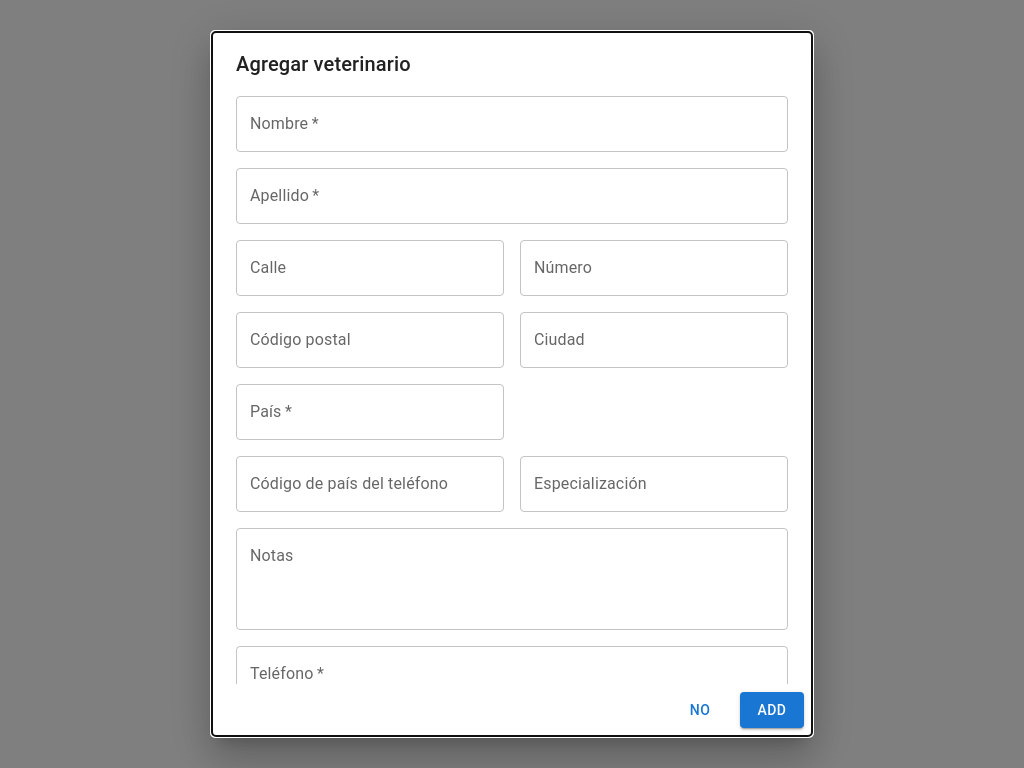
Test: AddVetDialog › shows a duplicate contact error returned by the API
Type "Ada" into the field labelled "Nombre *" at (512, 124), box [236,96,788,152]
Type "Lovelace" into the field labelled "Apellido *" at (512, 196), box [236,168,788,224]
Type "Germany" into the field labelled "País *" at (370, 412), box [236,384,504,440]
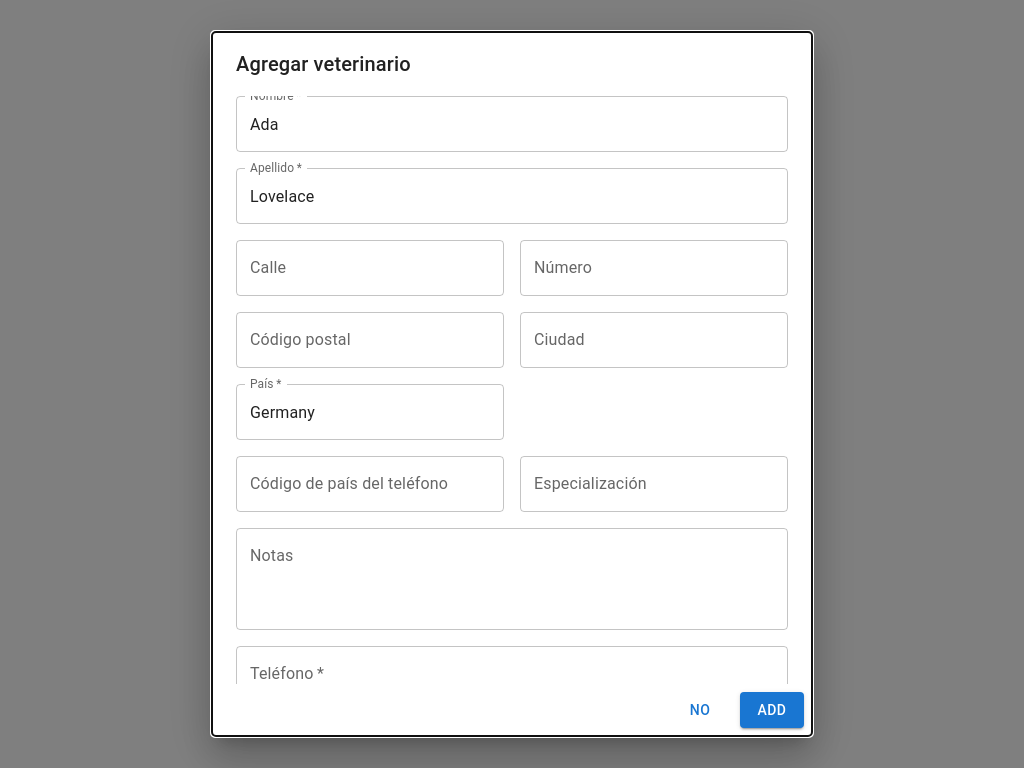
Type "Frankfurt" into the field labelled "Ciudad" at (654, 340), box [520,312,788,368]
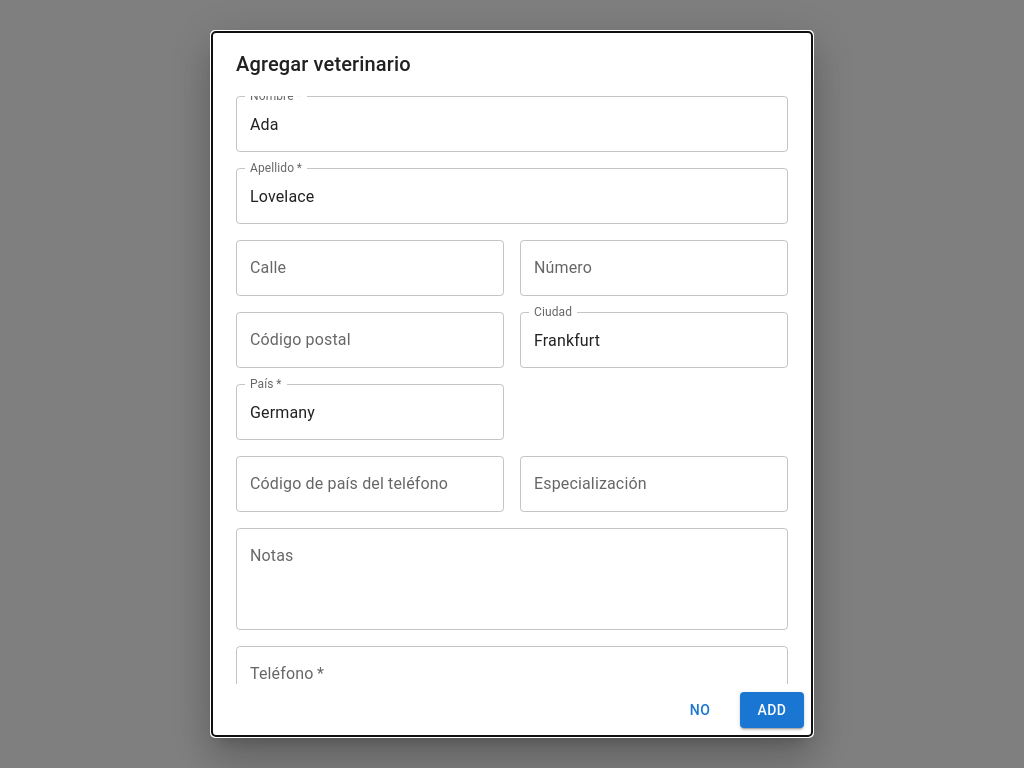
Type "Main Street" into the field labelled "Calle" at (370, 268), box [236,240,504,296]
(page scrolled)
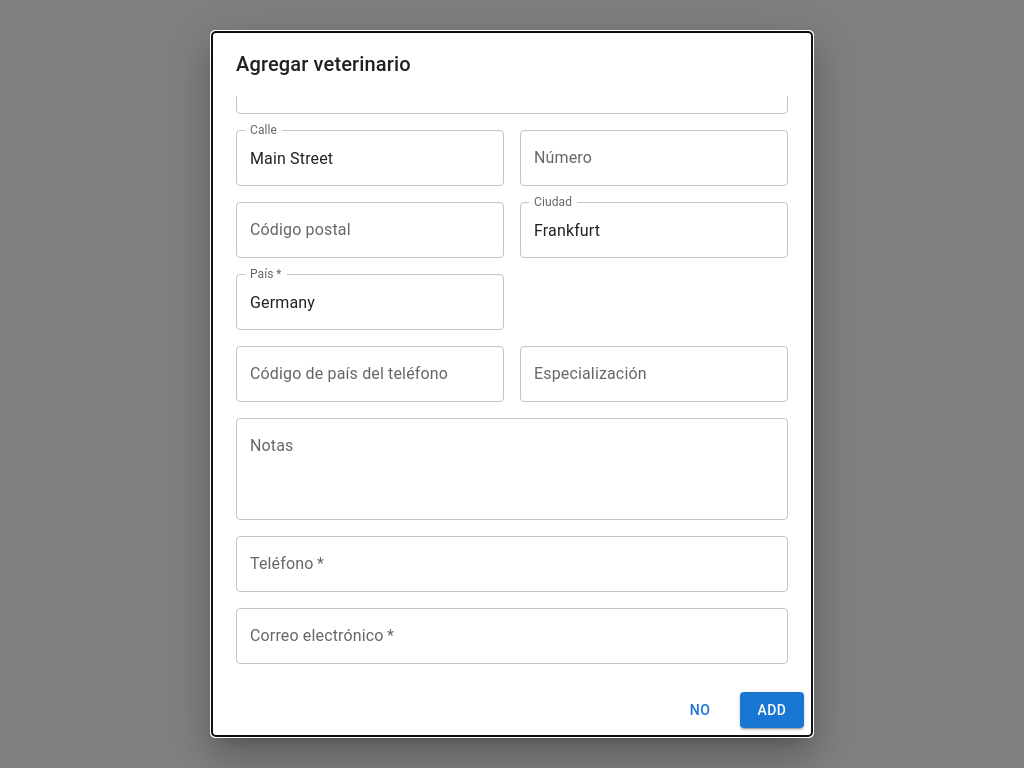
Type "ada@example.com" into the field labelled "Correo electrónico *" at (512, 636), box [236,608,788,664]
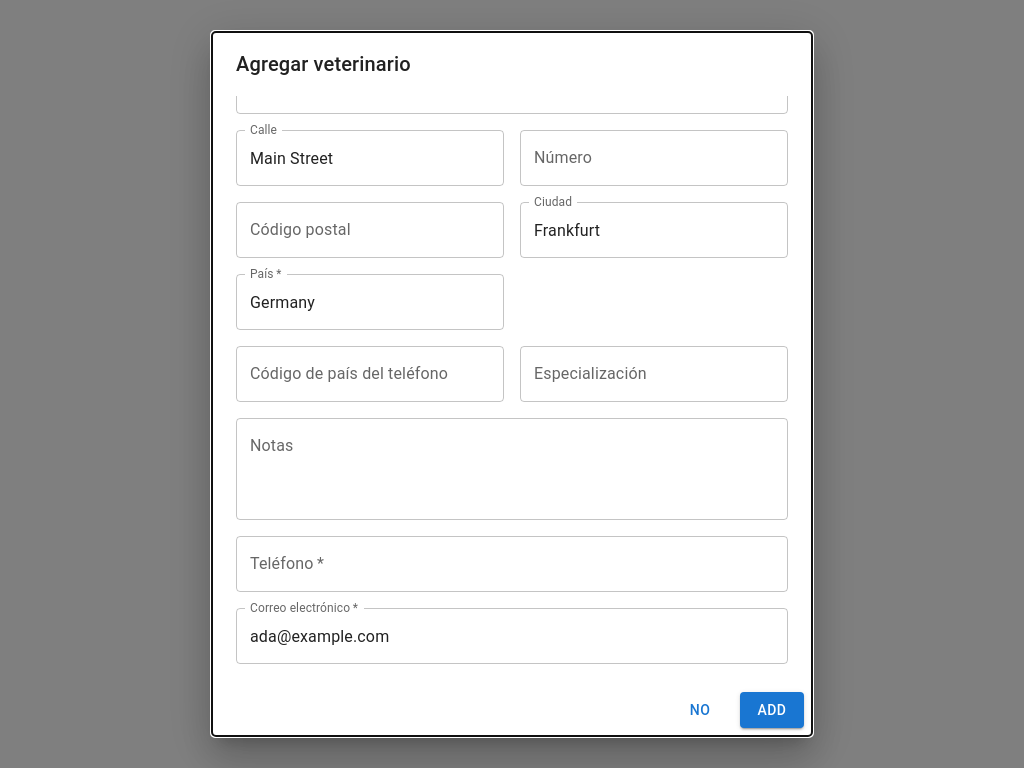
Type "12345" into the field labelled "Teléfono *" at (512, 564), box [236,536,788,592]
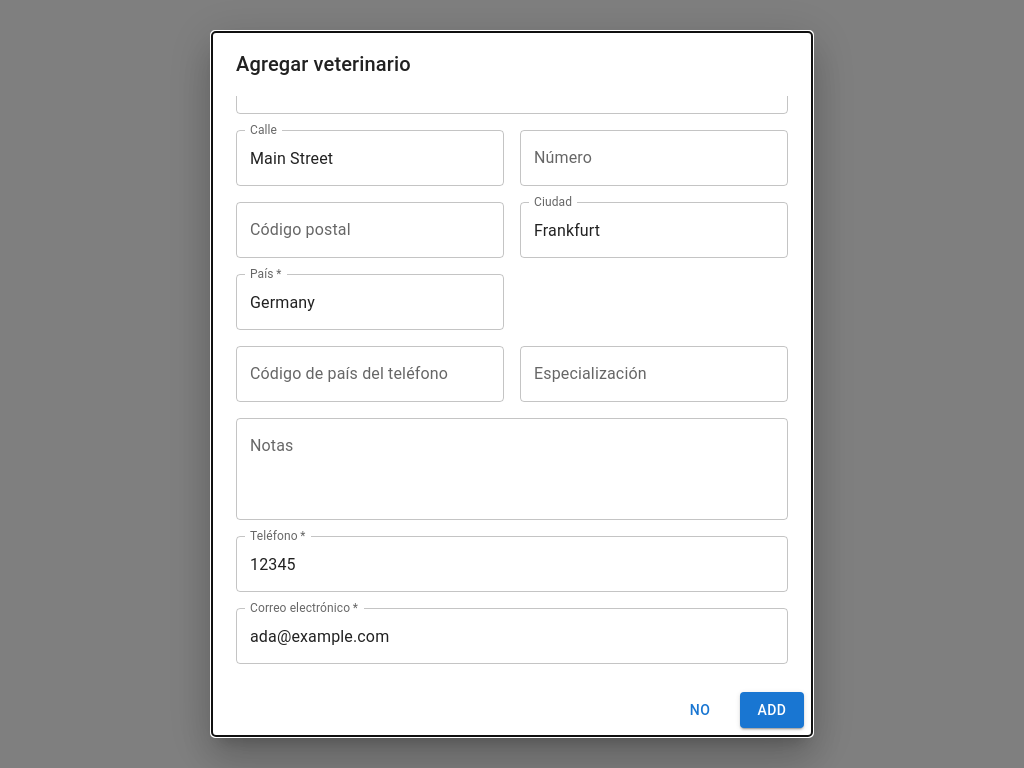
Click the button "Add" at (772, 710), box [740,692,804,728]
(page scrolled)
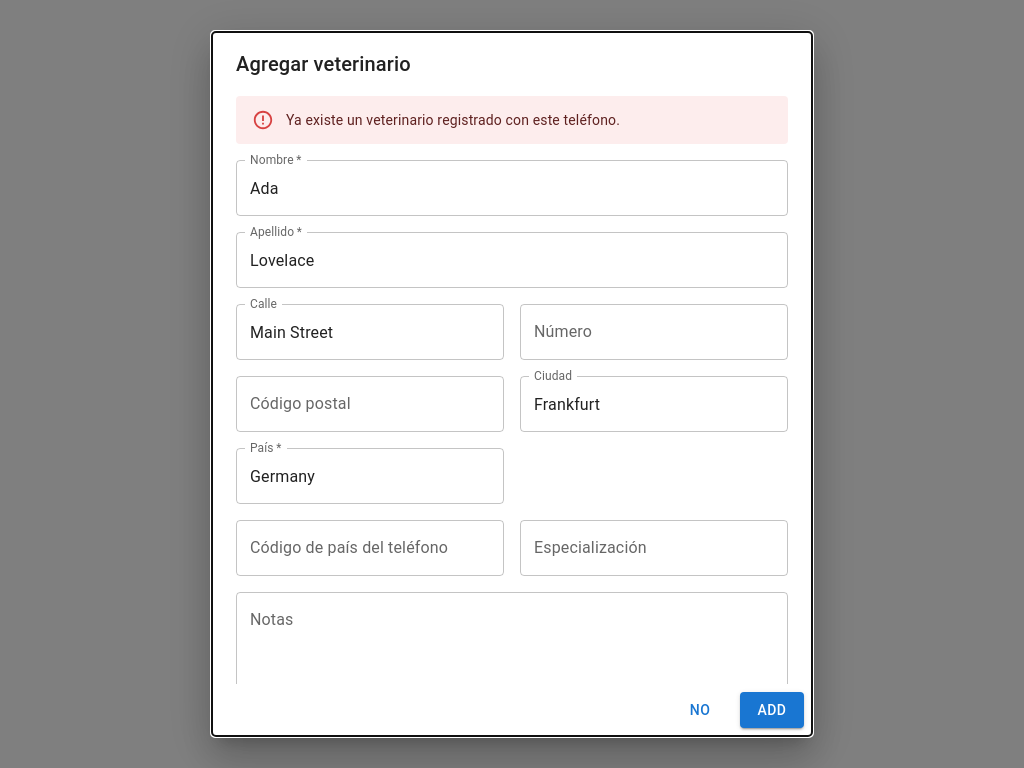
Expected: the text "Ya existe un veterinario registrado con este teléfono." is shown, [286,112,620,128]
